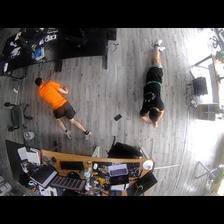fall: (34, 79, 93, 142), (142, 40, 170, 127)
